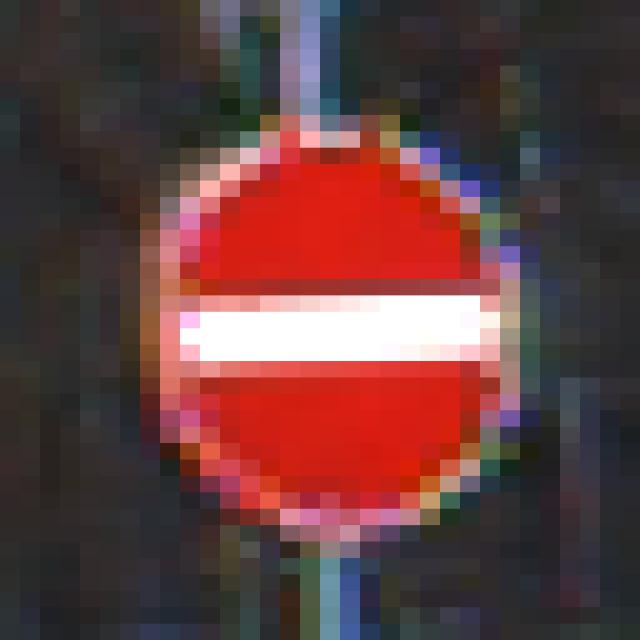No Entry: (121, 99, 541, 559)
